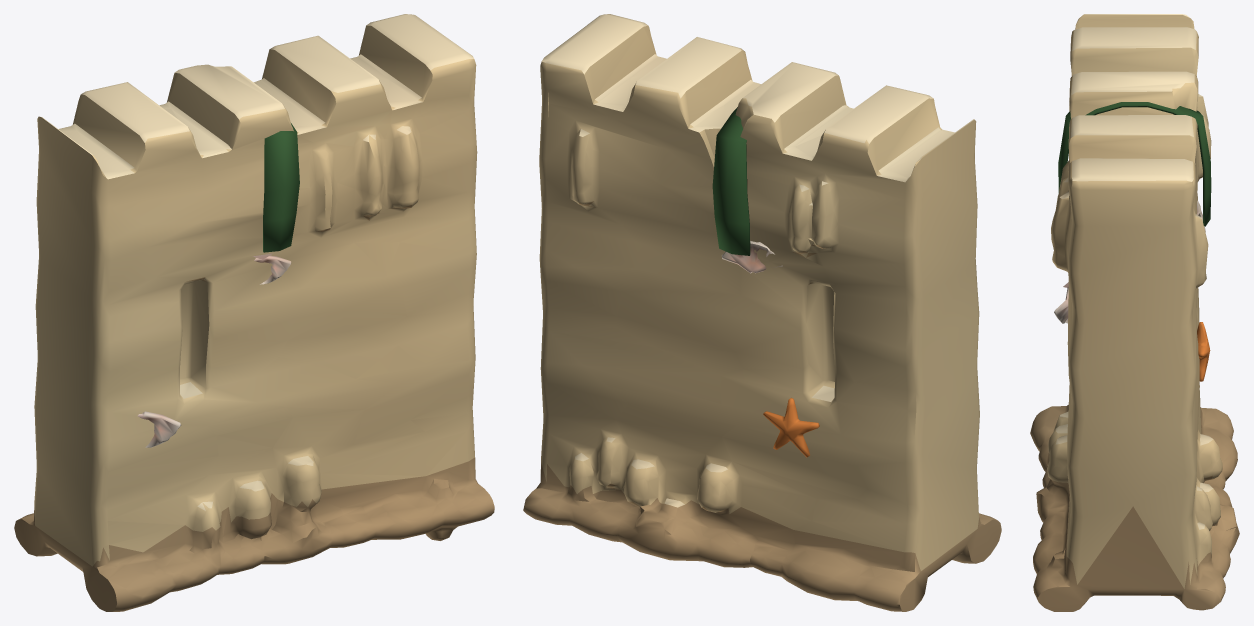
The model's file is shore_castle_wall_b.glb.
3 views of the same model, side by side, from view 1: azimuth 30°, elevation 25°; view 2: azimuth 150°, elevation 25°; view 3: azimuth 270°, elevation 25° (orthographic). The views are drawn at different scales.
Visible parts, largest first — view 1: shore_castle_wall_b; view 2: shore_castle_wall_b; view 3: shore_castle_wall_b.
Boxes of the visible parts, x1,y1,x2,y2 form: shore_castle_wall_b: (14, 14, 494, 611); shore_castle_wall_b: (523, 14, 1001, 611); shore_castle_wall_b: (1030, 14, 1239, 611).
Size of the model in its own units: 10.03 by 11.82 by 4.98.
